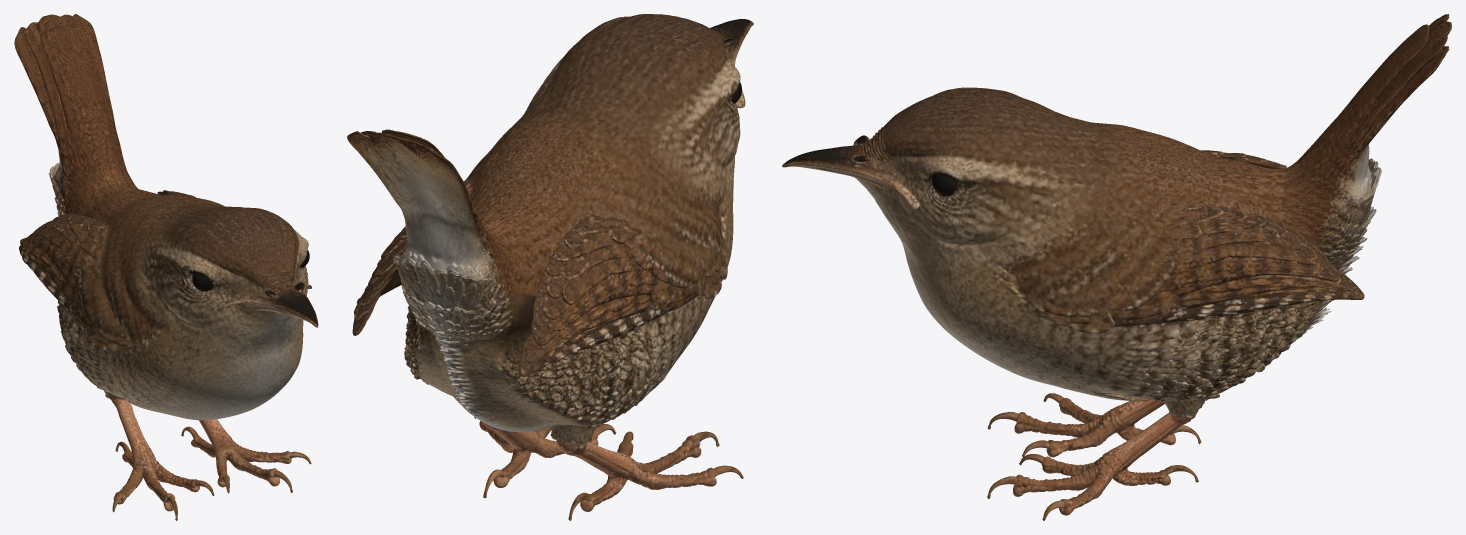
The model's file is ave_troglodytes_aedon.fbx.
3 views of the same model, side by side, from view 1: azimuth 30°, elevation 25°; view 2: azimuth 150°, elevation 25°; view 3: azimuth 270°, elevation 25° (orthographic). The views are drawn at different scales.
Parts seen in each view (by area): view 1: tripo_node_9dbde398; view 2: tripo_node_9dbde398; view 3: tripo_node_9dbde398.
Part boxes in pixels (x1,y1,x2,y2): tripo_node_9dbde398: (14, 14, 318, 520); tripo_node_9dbde398: (347, 14, 753, 520); tripo_node_9dbde398: (782, 14, 1451, 520).
Size of the model in its own units: 41.61 by 71.41 by 98.39.
1 material, 1 textured.
